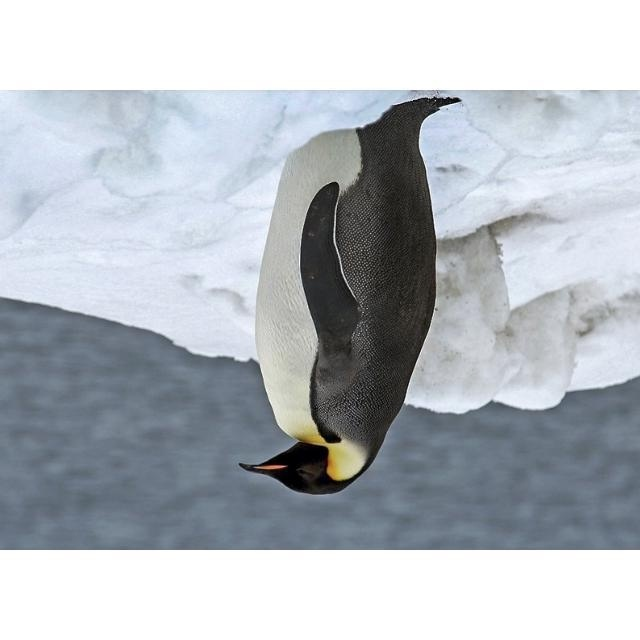penguin: (237, 95, 459, 497)
